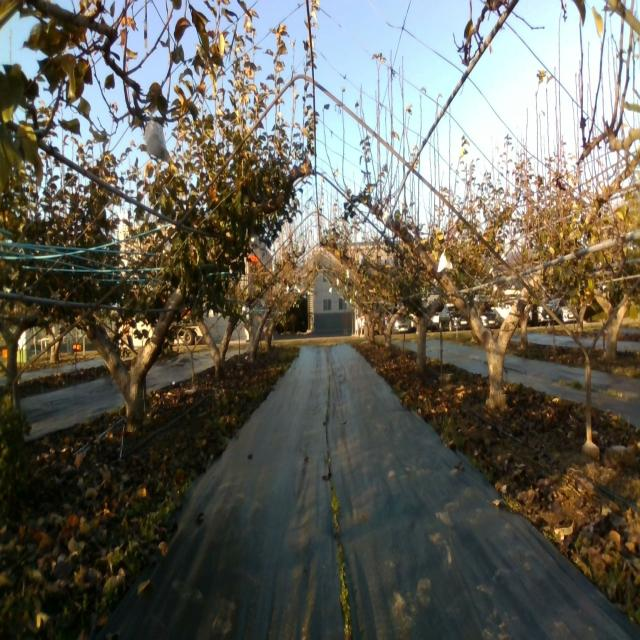pearbags: (146, 113, 168, 165), (437, 248, 453, 272), (248, 228, 260, 248), (382, 210, 392, 228)
